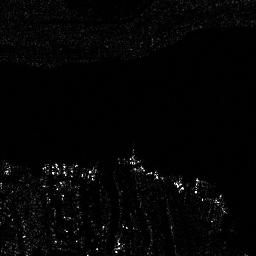ship: (41, 161, 98, 181)
